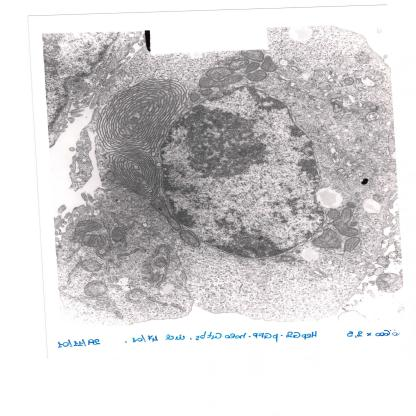mitochondria: (148, 197, 185, 231), (66, 220, 102, 243), (310, 227, 344, 250), (198, 74, 242, 89), (80, 279, 109, 298), (179, 229, 204, 248), (205, 66, 234, 80), (81, 233, 112, 246), (261, 54, 279, 74), (78, 259, 102, 273), (228, 58, 250, 72), (244, 70, 268, 82), (345, 236, 362, 252), (110, 227, 127, 242), (244, 62, 261, 74), (188, 91, 202, 103), (95, 300, 113, 308), (326, 209, 340, 219), (200, 88, 214, 97), (344, 200, 358, 208)
